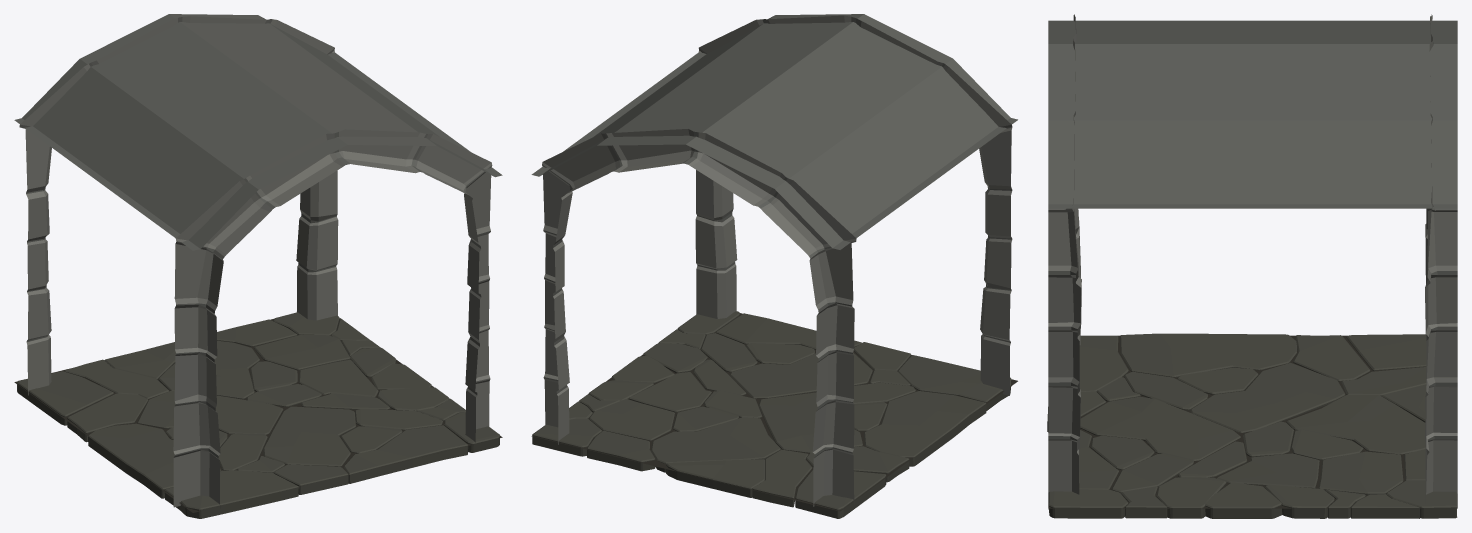
File: Dungeon_Straight.glb
The picture shows the model from 3 angles, left to right: view 1: azimuth 30°, elevation 25°; view 2: azimuth 150°, elevation 25°; view 3: azimuth 270°, elevation 25°; orthographic projection. The views are drawn at different scales.
Parts seen in each view (by area): view 1: Dungeon_Straight.001; view 2: Dungeon_Straight.001; view 3: Dungeon_Straight.001.
Boxes of the visible parts, <box> form: Dungeon_Straight.001: <box>14,14,502,518</box>; Dungeon_Straight.001: <box>531,14,1017,518</box>; Dungeon_Straight.001: <box>1047,14,1457,518</box>.
Size of the model in its own units: 4.07 by 4.25 by 4.01.
Materials: 2 (2 with a texture image).
